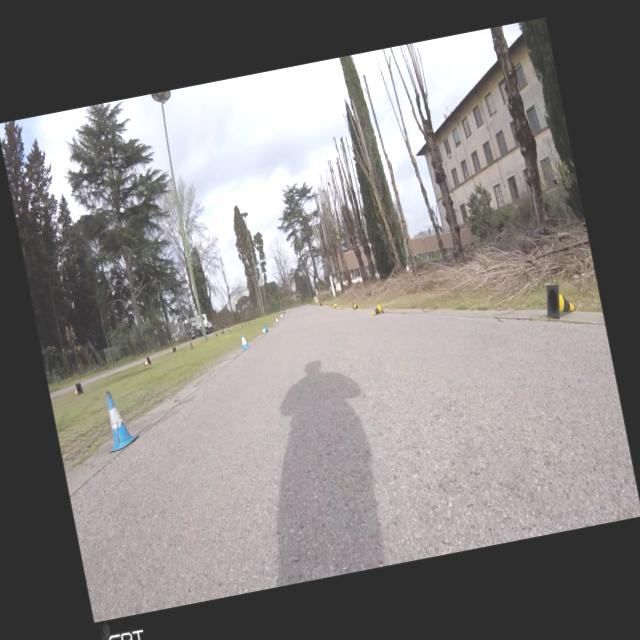blue_cone: (98, 387, 142, 452), (239, 333, 250, 350), (260, 324, 268, 334), (275, 317, 279, 324)
orange_cone: (72, 382, 84, 396), (142, 356, 152, 366)
unknown_cone: (189, 340, 195, 350), (172, 347, 176, 353), (215, 331, 218, 336), (222, 329, 224, 334)
yellow_cone: (541, 280, 578, 322), (371, 302, 384, 316), (352, 302, 360, 310), (333, 304, 338, 310), (325, 301, 328, 307)
